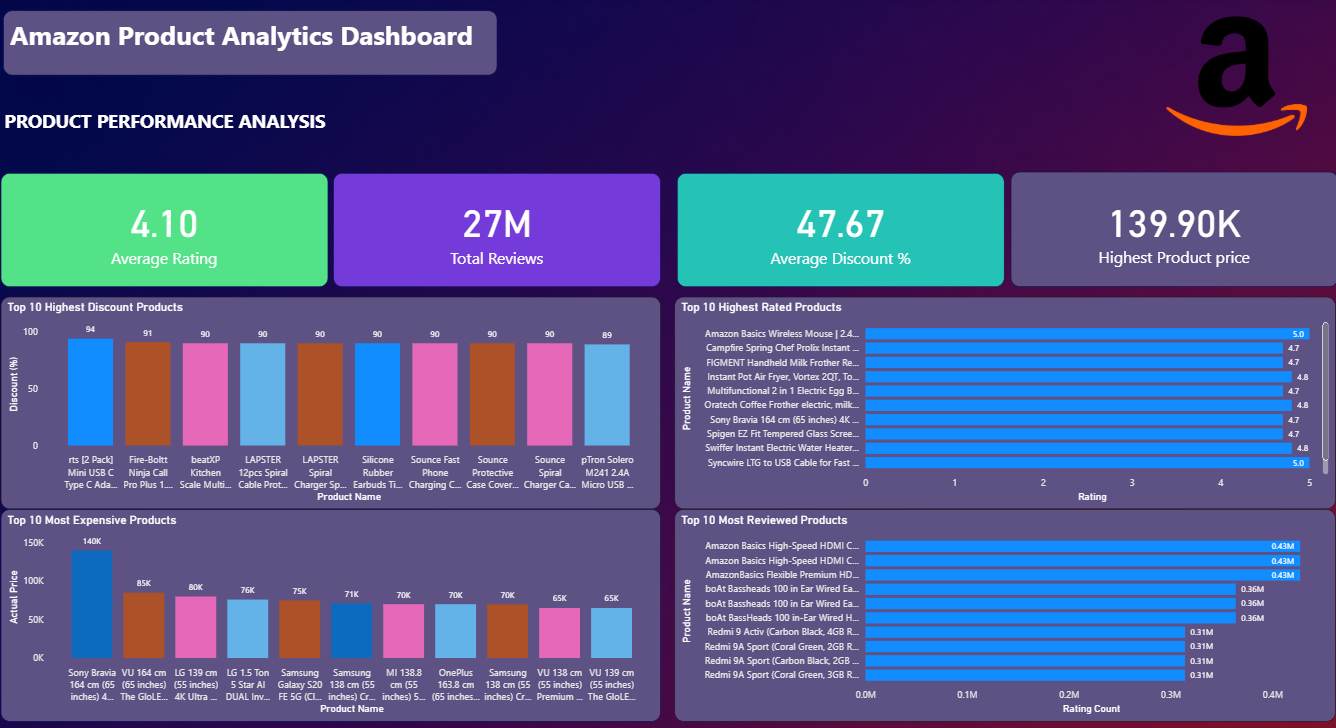

What the dashboard file says about the page in this screenshot:
{"tool":"powerbi","page":{"name":"Product Performance","canvas":[1920,1050],"ordinal":1},"visuals":[{"type":"clusteredBarChart","title":"Top 10 Highest Rated Products","fields":{"Category":["public amazon_products.product_name"],"Y":["Avg(public amazon_products.rating)"]},"box":[969.8,427.7,946.6,304.2],"z":0},{"type":"clusteredBarChart","title":"Top 10 Most Reviewed Products","fields":{"Category":["public amazon_products.product_name"],"Y":["Max(public amazon_products.rating_count)"]},"box":[969.8,731.9,946.6,304.2],"z":1000},{"type":"clusteredColumnChart","title":"Top 10 Highest Discount Products","fields":{"Category":["public amazon_products.product_name"],"Y":["Max(public amazon_products.discount_percentage)"]},"box":[5.4,427.7,944.8,304.2],"z":2000},{"type":"clusteredColumnChart","title":"Top 10 Most Expensive Products","fields":{"Category":["public amazon_products.product_name"],"Y":["Max(public amazon_products.actual_price)"]},"box":[5.4,731.9,944.8,304.2],"z":3000},{"type":"textbox","box":[8.9,17.9,706.8,93],"z":4000},{"type":"textbox","box":[5.4,152.1,490.3,50.1],"z":5000},{"type":"card","fields":{"Values":["public amazon_products.Total Reviews"]},"box":[481.3,250.5,468.8,162.8],"z":6000},{"type":"card","fields":{"Values":["public amazon_products.Average_Discount"]},"box":[973.4,250.5,468.8,162.8],"z":7000},{"type":"card","fields":{"Values":["public amazon_products.Maximum actual price"]},"box":[1451.2,248.7,468.8,164.6],"z":8000},{"type":"card","fields":{"Values":["public amazon_products.Average_Rating"]},"box":[5.4,250.5,468.8,162.8],"z":9000},{"type":"image","box":[1634.3,20.9,281,181],"z":9001}]}

Visuals, with their boxes in screenshot pixels (x1, y1, x2, y2), scaled from the page's 1920x1050 canvas onto the 1336x728 screenshot:
"Top 10 Highest Rated Products" clusteredBarChart: (675, 297, 1333, 507)
"Top 10 Most Reviewed Products" clusteredBarChart: (675, 507, 1333, 718)
"Top 10 Highest Discount Products" clusteredColumnChart: (4, 297, 661, 507)
"Top 10 Most Expensive Products" clusteredColumnChart: (4, 507, 661, 718)
textbox: (6, 12, 498, 77)
textbox: (4, 105, 345, 140)
card - public amazon_products.Total Reviews: (335, 174, 661, 287)
card - public amazon_products.Average_Discount: (677, 174, 1004, 287)
card - public amazon_products.Maximum actual price: (1010, 172, 1335, 287)
card - public amazon_products.Average_Rating: (4, 174, 330, 287)
image: (1137, 14, 1333, 140)
